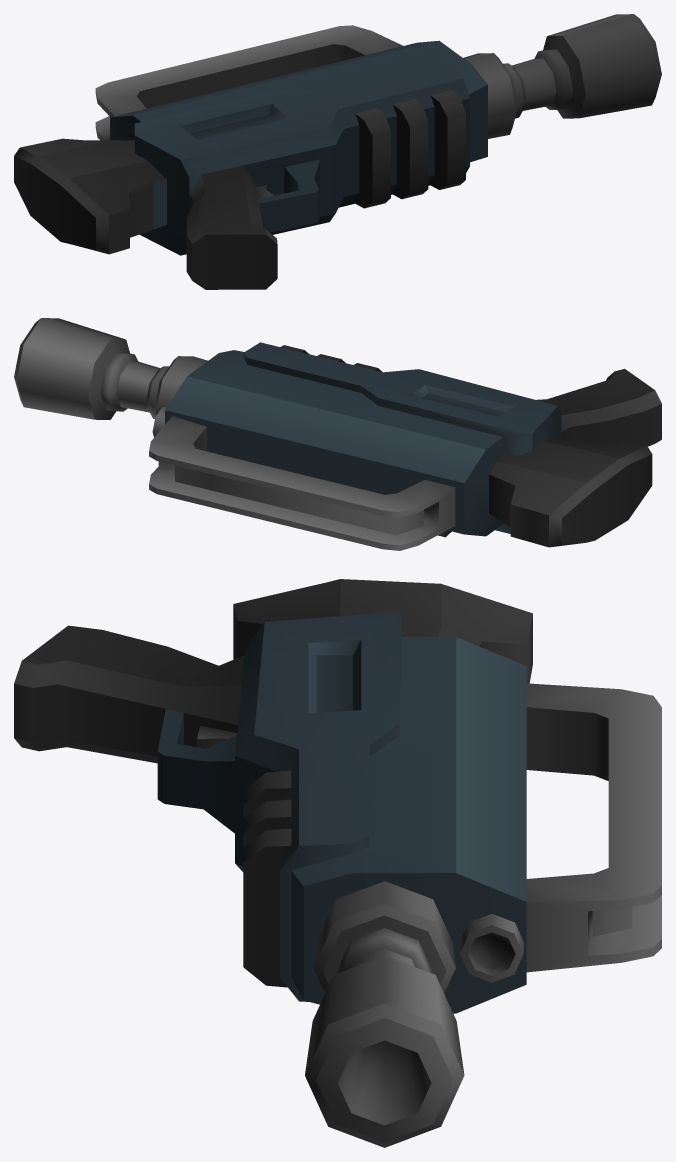
The model's file is Weapon_FAMAS.fbx.
3 views of the same model, one above another, from view 1: azimuth 30°, elevation 25°; view 2: azimuth 150°, elevation 25°; view 3: azimuth 270°, elevation 25° (orthographic). The views are drawn at different scales.
Visible parts, largest first — view 1: Weapon_FAMASBurstAR; view 2: Weapon_FAMASBurstAR; view 3: Weapon_FAMASBurstAR.
Part boxes in pixels (x1,y1,x2,y2): Weapon_FAMASBurstAR: (14,14,661,289); Weapon_FAMASBurstAR: (14,318,661,550); Weapon_FAMASBurstAR: (14,579,661,1147).
Size of the model in its own units: 0.6293 by 0.1067 by 0.3752.
